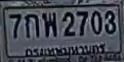0: (90, 10, 102, 35)
2: (62, 11, 74, 35)
3: (104, 10, 115, 33)
7: (8, 13, 20, 38), (76, 10, 87, 35)
A01: (24, 13, 38, 37)
A30: (42, 12, 56, 36)
BKK: (24, 43, 106, 57)
